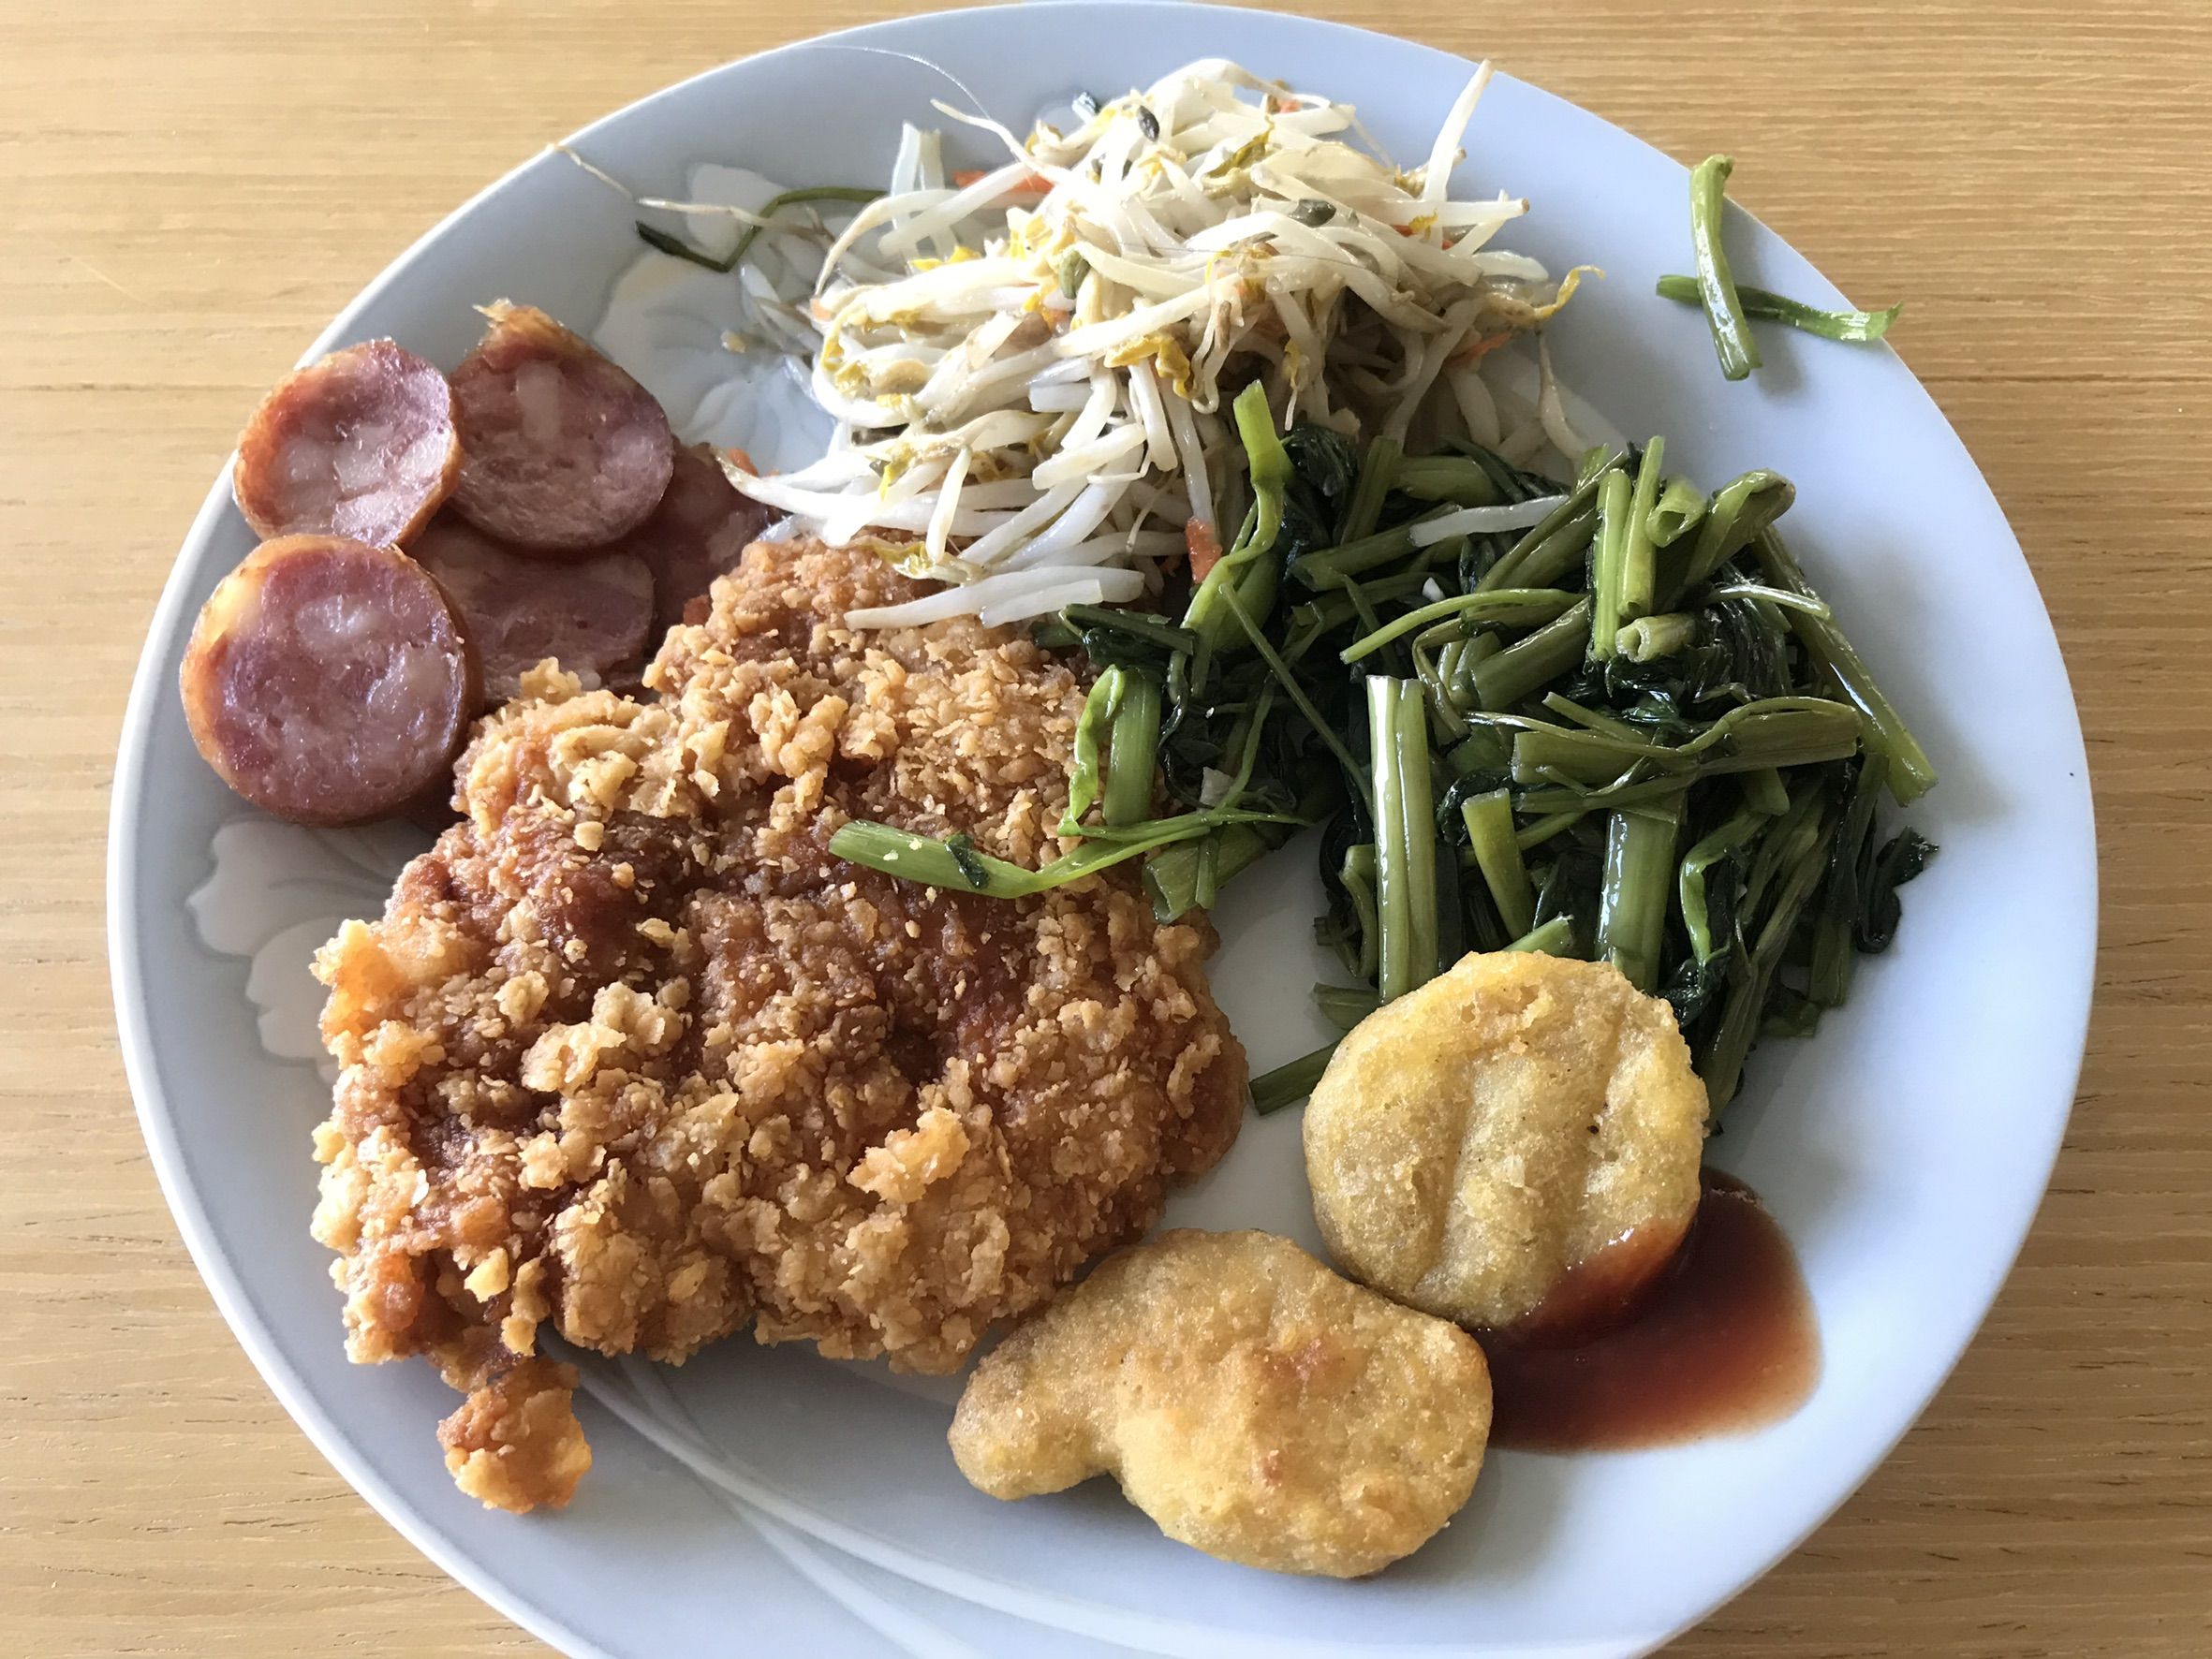chicken_nuggets: (960, 951, 1703, 1581)
chinese_sausage: (197, 317, 701, 828)
fried_chicken: (319, 558, 1238, 1364)
mung_bean_sprouts: (811, 64, 1510, 545)
water_spinach: (1279, 451, 1876, 1084)
